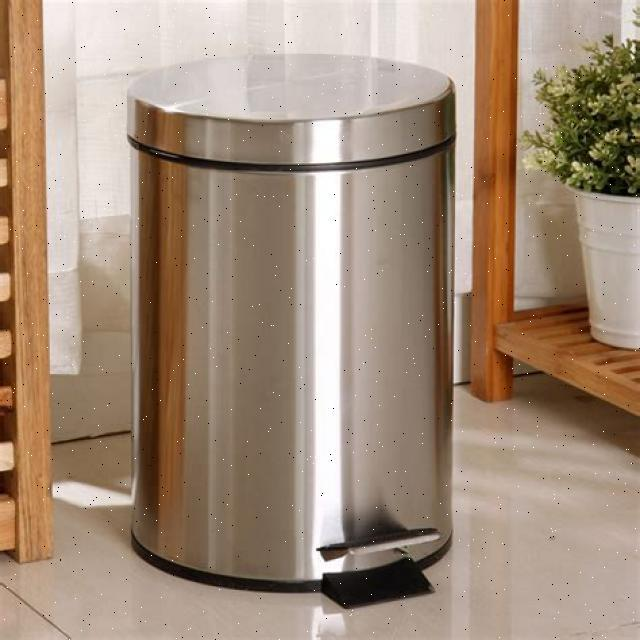garbage container: (108, 45, 489, 603)
